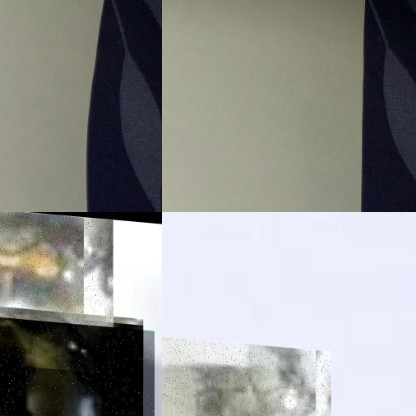ironball: (0, 212, 113, 369), (0, 311, 154, 415), (161, 325, 331, 415)
